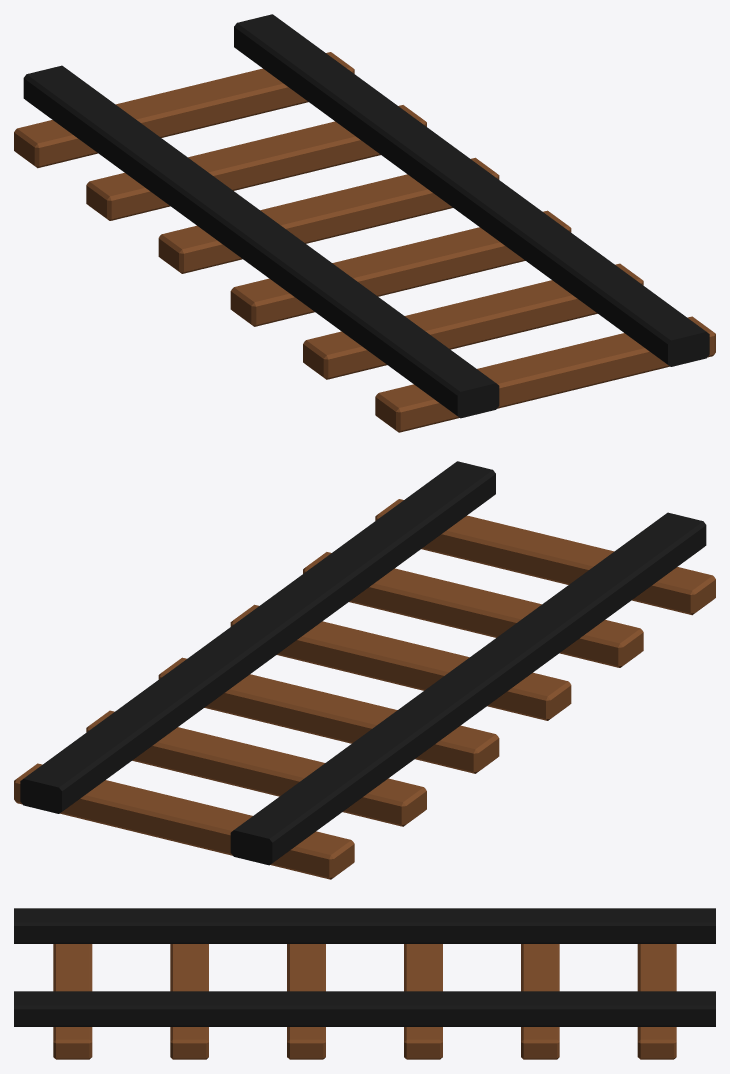
The model's file is ww_rail.glb.
The picture shows the model from 3 angles, top to bottom: view 1: azimuth 30°, elevation 25°; view 2: azimuth 150°, elevation 25°; view 3: azimuth 270°, elevation 25°; orthographic projection. The views are drawn at different scales.
Visible parts, largest first — view 1: Rail; view 2: Rail; view 3: Rail.
Boxes of the visible parts, x1,y1,x2,y2 form: Rail: (14,14,715,432); Rail: (14,461,715,879); Rail: (14,908,715,1059).
Size of the model in its own units: 1.48 by 0.2263 by 3.47.
